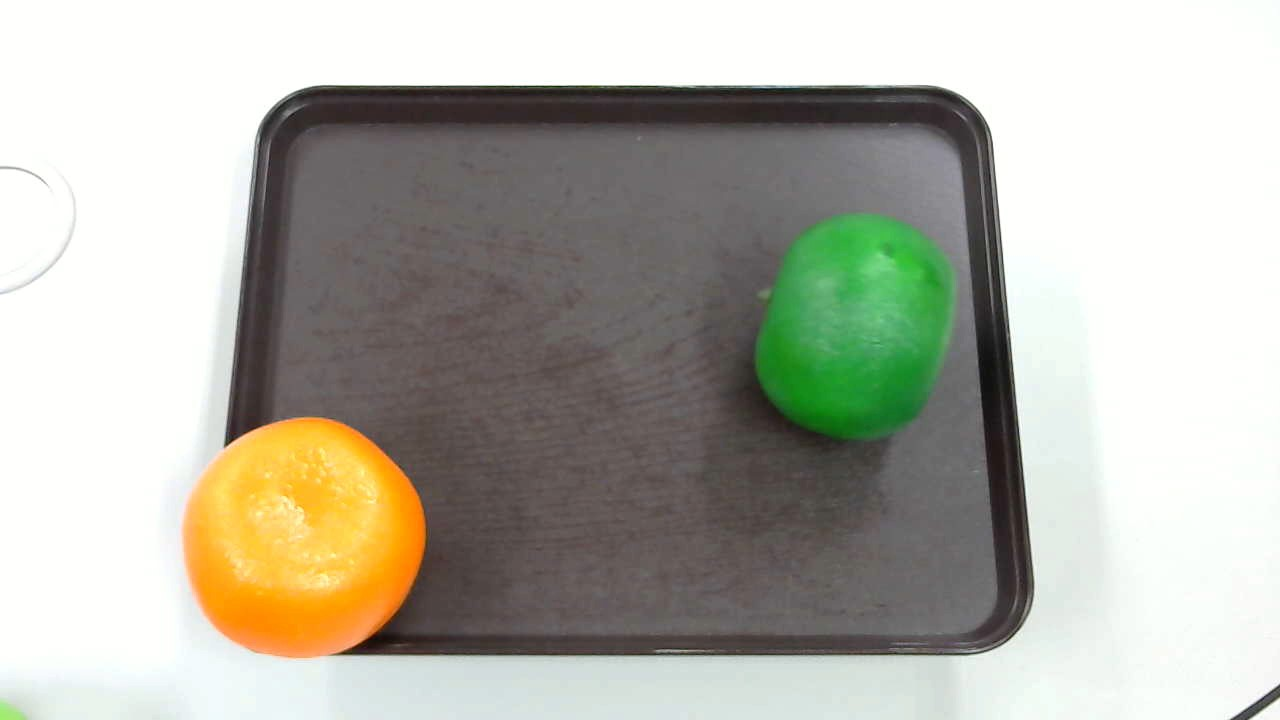green orange: (738, 202, 961, 441)
orange: (175, 411, 431, 662)
